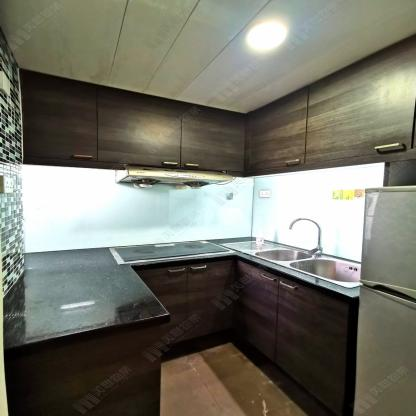Cupboard: (22, 34, 414, 174), (135, 257, 357, 412)
Exhaust Hood: (114, 168, 230, 189)
Faucet: (285, 215, 325, 257)
Fridge: (350, 185, 416, 414)
Sink: (219, 238, 365, 289)
Stove: (114, 237, 234, 261)
